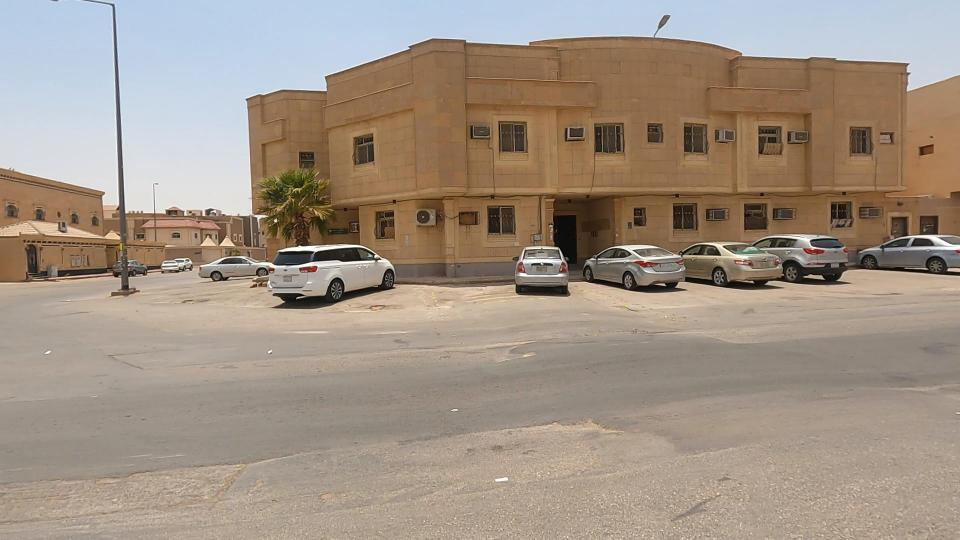POTHOLES: (370, 350, 728, 529), (49, 408, 330, 540)
